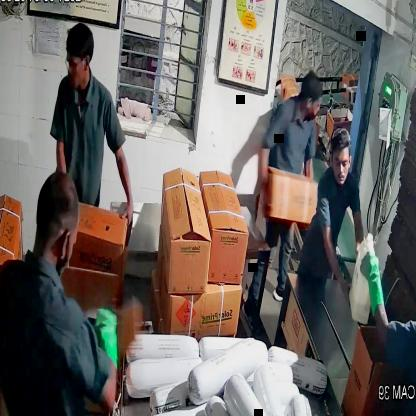no_goggles: (327, 147, 352, 174)
